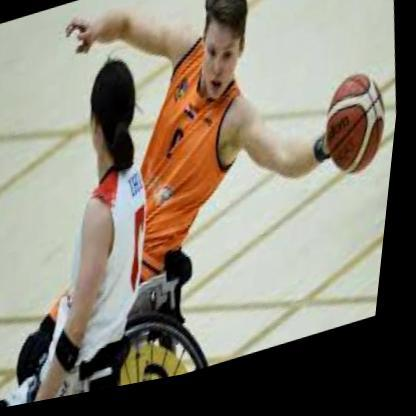basketball: (320, 77, 401, 198)
